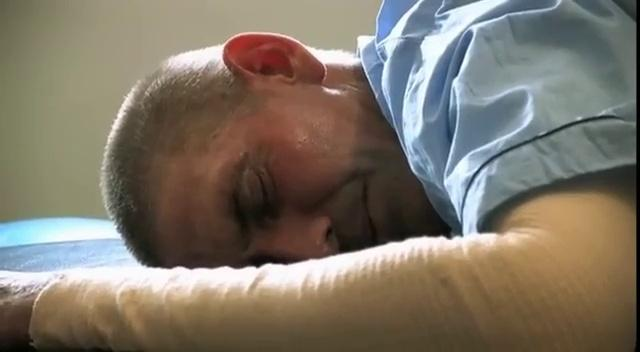patient: (1, 0, 637, 350)
